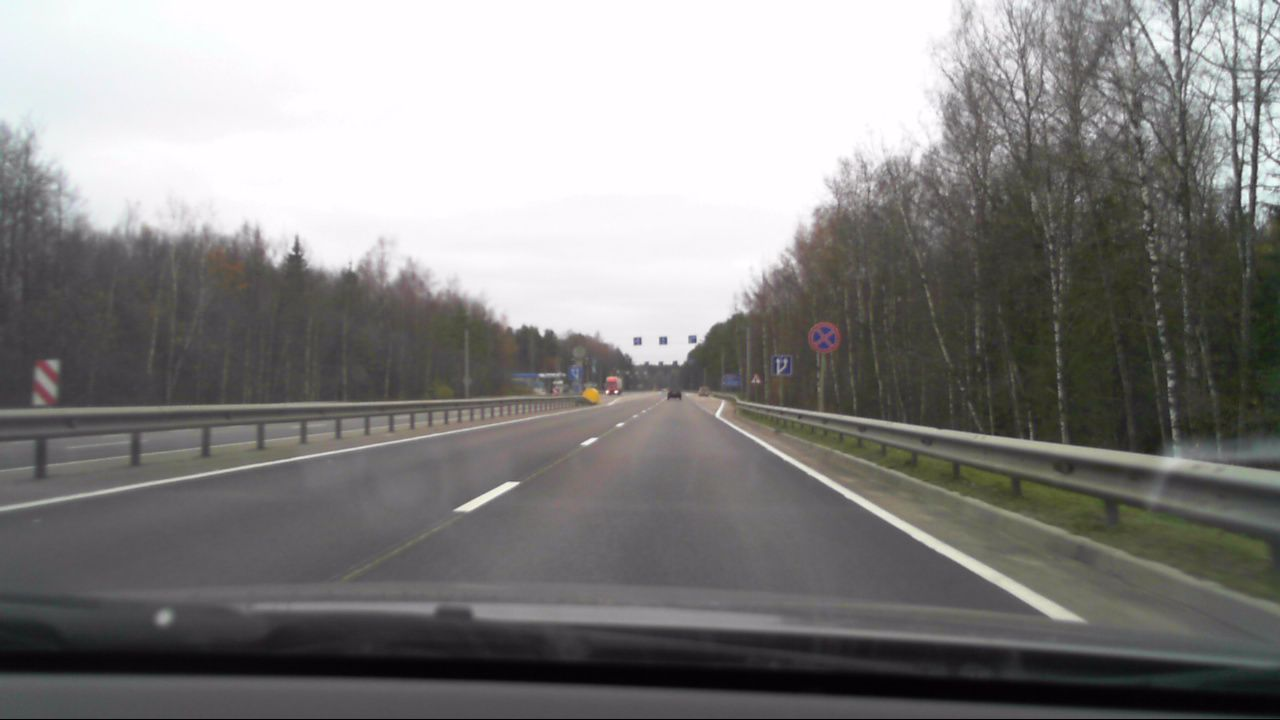No Parking: (808, 321, 839, 354)
